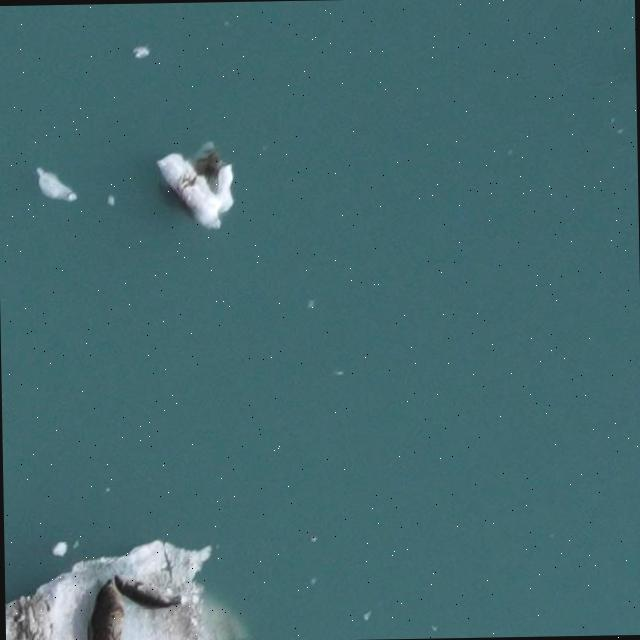seal: (108, 567, 184, 620), (88, 574, 125, 640)
